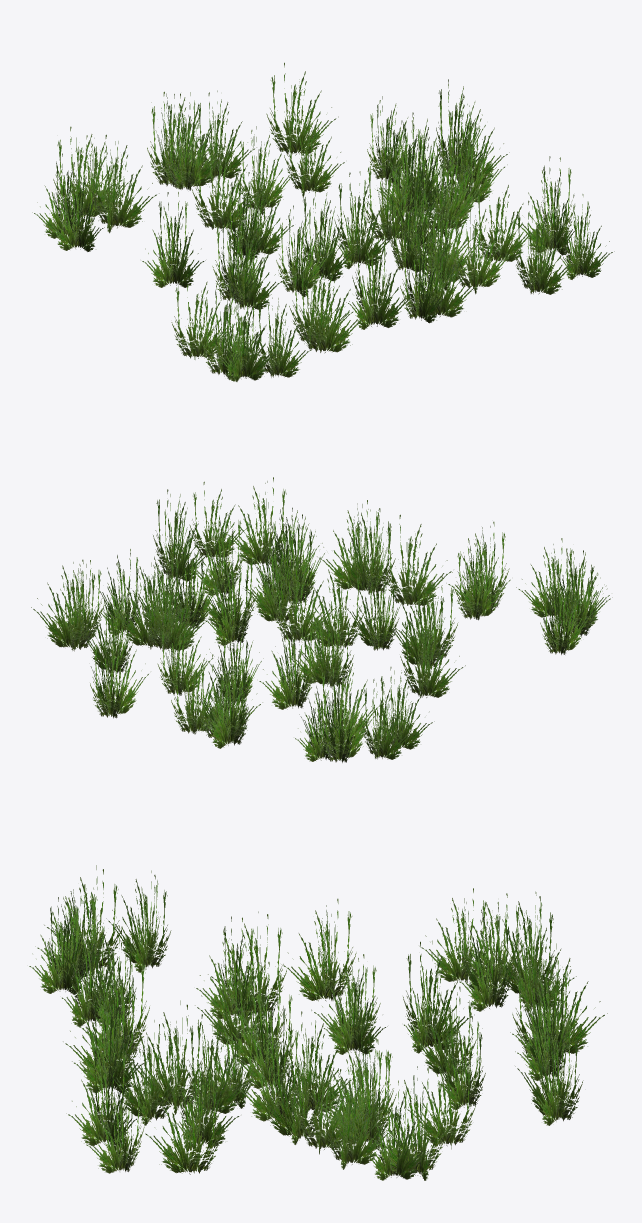
The picture shows the model from 3 angles, top to bottom: view 1: azimuth 30°, elevation 25°; view 2: azimuth 150°, elevation 25°; view 3: azimuth 270°, elevation 25°; orthographic projection. The views are drawn at different scales.
Parts seen in each view (by area): view 1: red-baron-grass-ornamental-Va7qqJC-600_red-baron-grass-ornam, red-baron-grass-ornamental-Va7qqJC-600.001_red-baron-grass-o; view 2: red-baron-grass-ornamental-Va7qqJC-600.001_red-baron-grass-o, red-baron-grass-ornamental-Va7qqJC-600_red-baron-grass-ornam; view 3: red-baron-grass-ornamental-Va7qqJC-600.001_red-baron-grass-o, red-baron-grass-ornamental-Va7qqJC-600_red-baron-grass-ornam.
Part boxes in pixels (left/top/right/bottom): red-baron-grass-ornamental-Va7qqJC-600_red-baron-grass-ornam: left=32, top=79, right=590, bottom=381; red-baron-grass-ornamental-Va7qqJC-600.001_red-baron-grass-o: left=53, top=62, right=614, bottom=380; red-baron-grass-ornamental-Va7qqJC-600.001_red-baron-grass-o: left=31, top=477, right=596, bottom=762; red-baron-grass-ornamental-Va7qqJC-600_red-baron-grass-ornam: left=69, top=481, right=612, bottom=762; red-baron-grass-ornamental-Va7qqJC-600.001_red-baron-grass-o: left=35, top=865, right=607, bottom=1180; red-baron-grass-ornamental-Va7qqJC-600_red-baron-grass-ornam: left=29, top=869, right=583, bottom=1180.
Bounding box in the file's own units: 458 × 109 × 449.
1 material, 1 textured.
